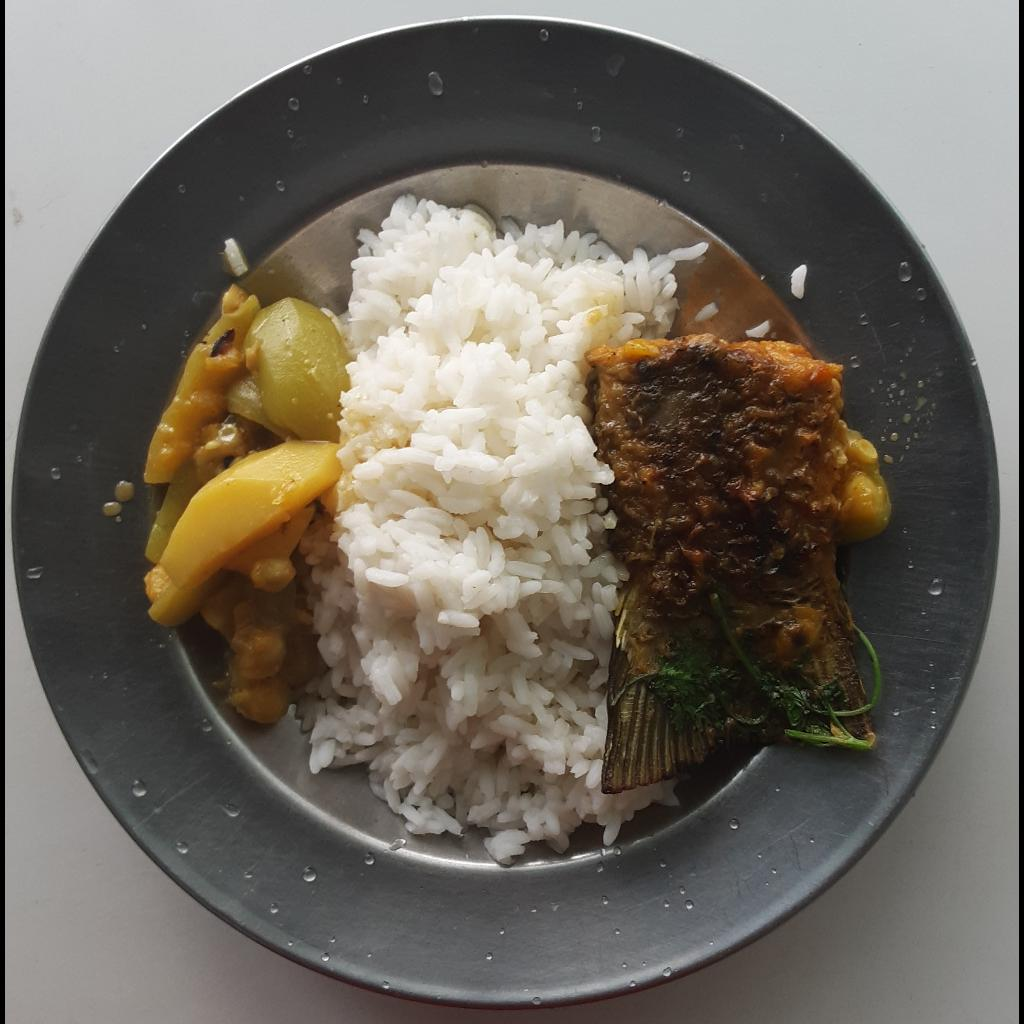fish: (593, 336, 892, 797)
potato: (145, 436, 343, 634)
potol: (142, 285, 348, 551), (201, 500, 335, 728)
rice: (297, 197, 713, 870)
